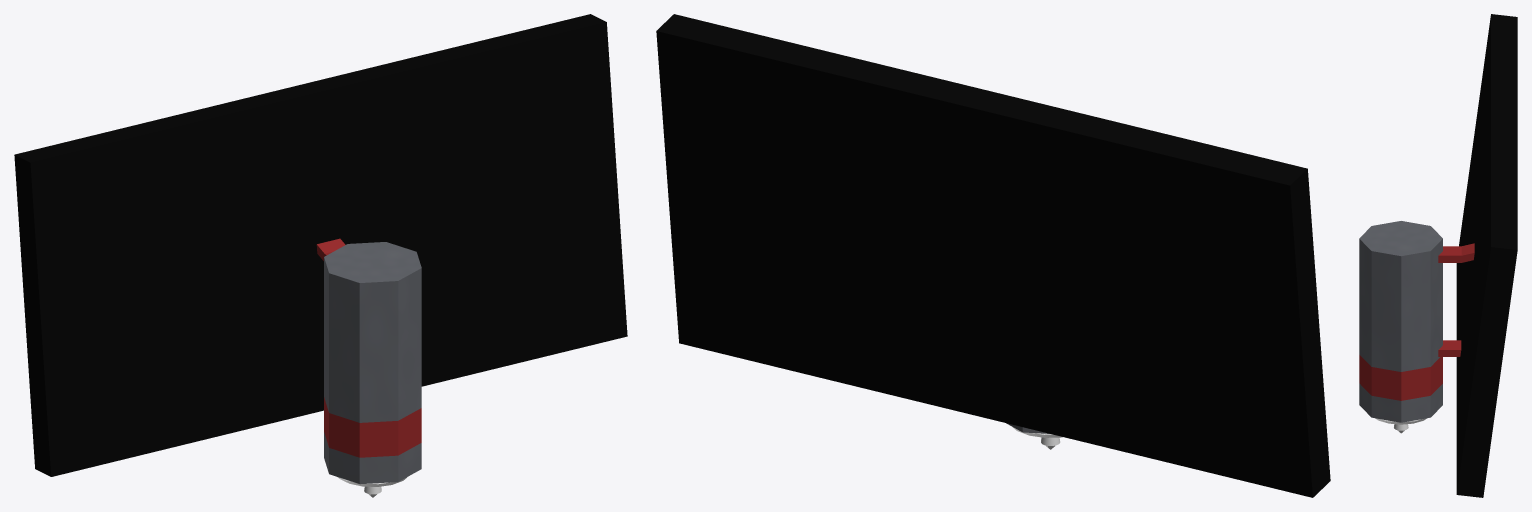
3 views of the same model, side by side, from view 1: azimuth 30°, elevation 25°; view 2: azimuth 150°, elevation 25°; view 3: azimuth 270°, elevation 25° (orthographic). The views are drawn at different scales.
Parts seen in each view (by area): view 1: Cylinder; view 2: Cylinder; view 3: Cylinder, Booster.010.
Part boxes in pixels (x1,y1,x2,y2): Cylinder: (14, 14, 627, 484); Cylinder: (656, 14, 1330, 497); Cylinder: (1359, 14, 1517, 497); Booster.010: (1375, 418, 1426, 433).
Size of the model in its own units: 600 by 364 by 172.
Materials: 3 (1 with a texture image).
